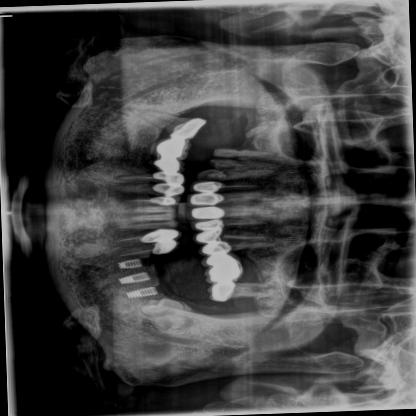Bicon: (126, 287, 160, 300), (119, 272, 151, 285), (117, 258, 145, 269)
